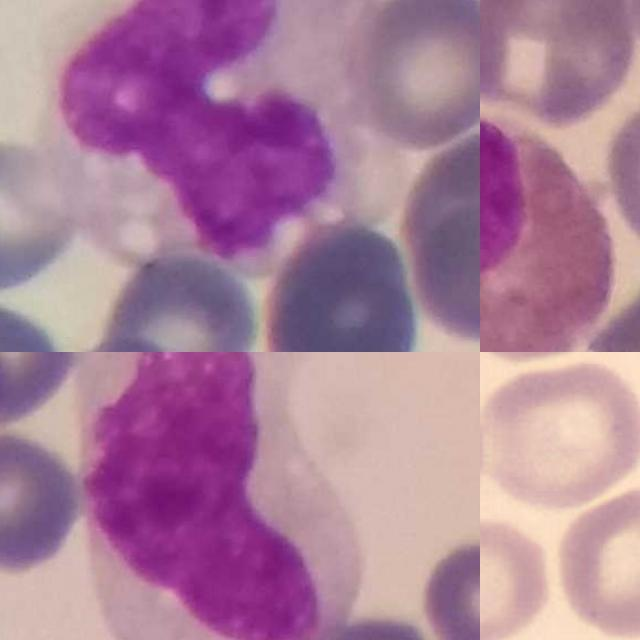Eosinophil: (480, 123, 613, 352)
Monocyte: (31, 0, 402, 267), (76, 352, 366, 640)
RBC: (480, 357, 640, 512), (551, 484, 640, 640), (480, 505, 559, 640)
